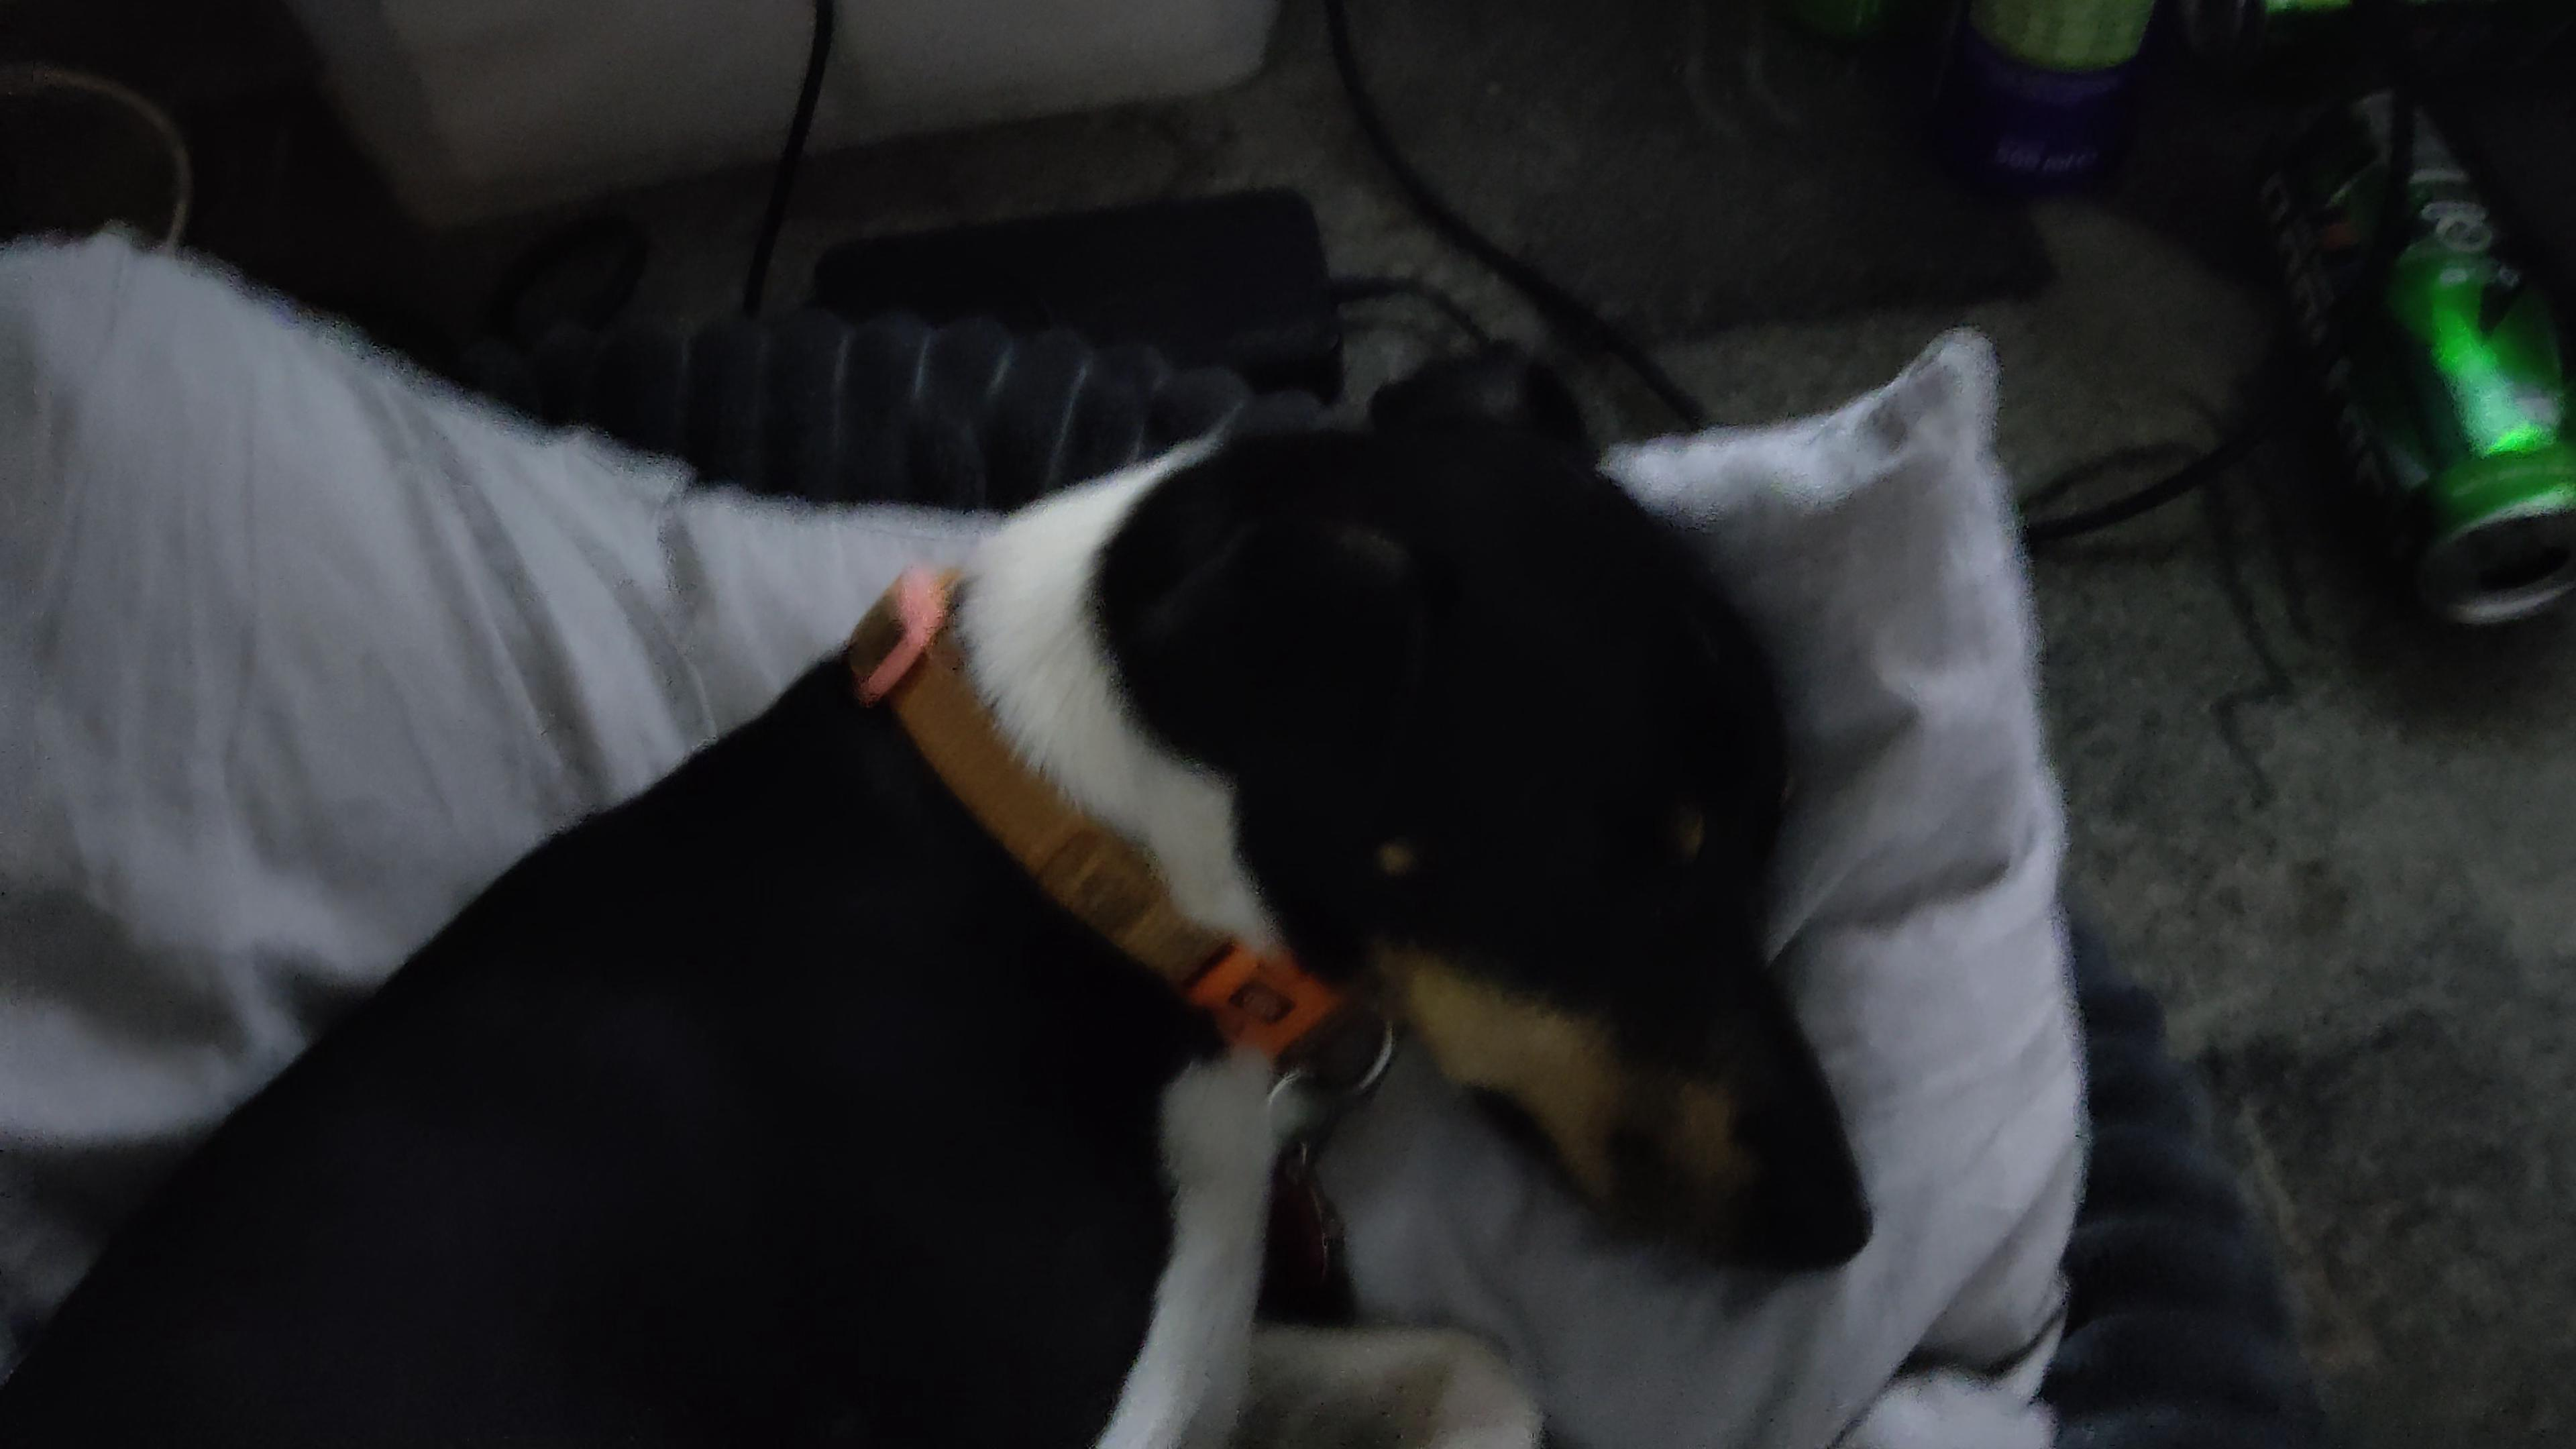Dog: (0, 317, 1891, 1449)
